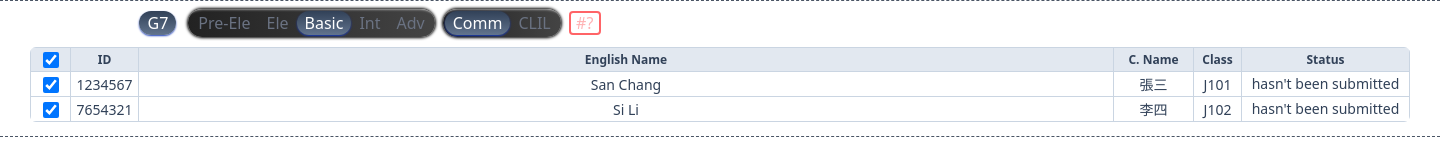
Scenario: StudentTable (record entry via store.handlePaste) › marks the master checkbox as indeterminate when some rows are selected
# Uncheck exactly one row: master becomes indeterminate (neither all nor none).
What coordinates should you click on to do the following:
click the 2nd checkbox
I would click on:
 (50, 85)
Its box is [42,77,58,93].
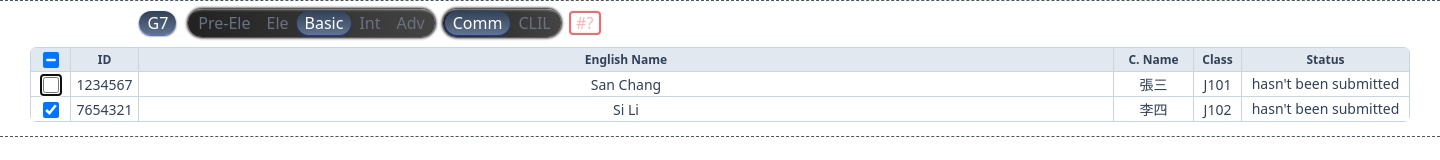
Now the checkbox next to "ID" is not checked, box [42,52,58,68]
# Re-check the row: master returns to fully checked.
What coordinates should you click on to do the following:
click the 2nd checkbox
I would click on:
 (50, 85)
Its box is [42,77,58,93].
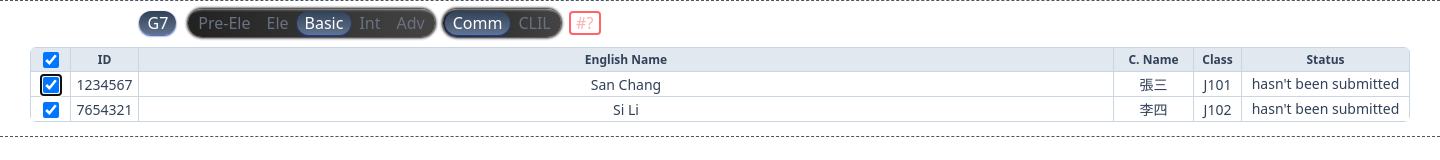
Now the checkbox next to "ID" is checked, box [42,52,58,68]
